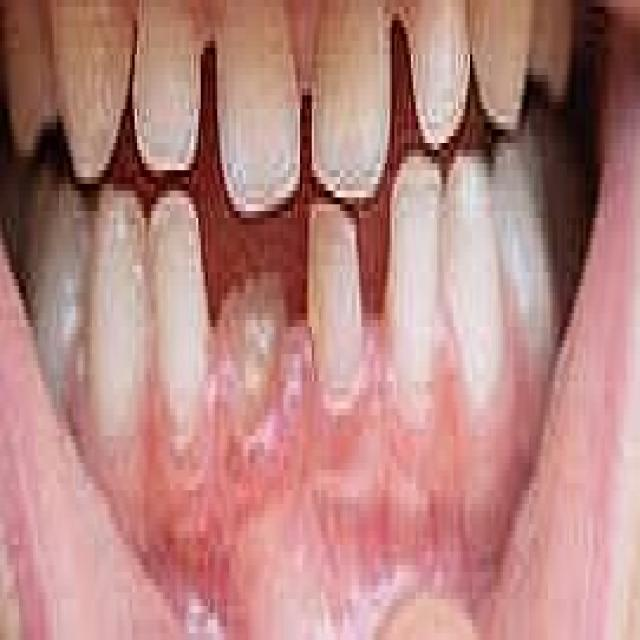caries: (217, 240, 292, 422)
